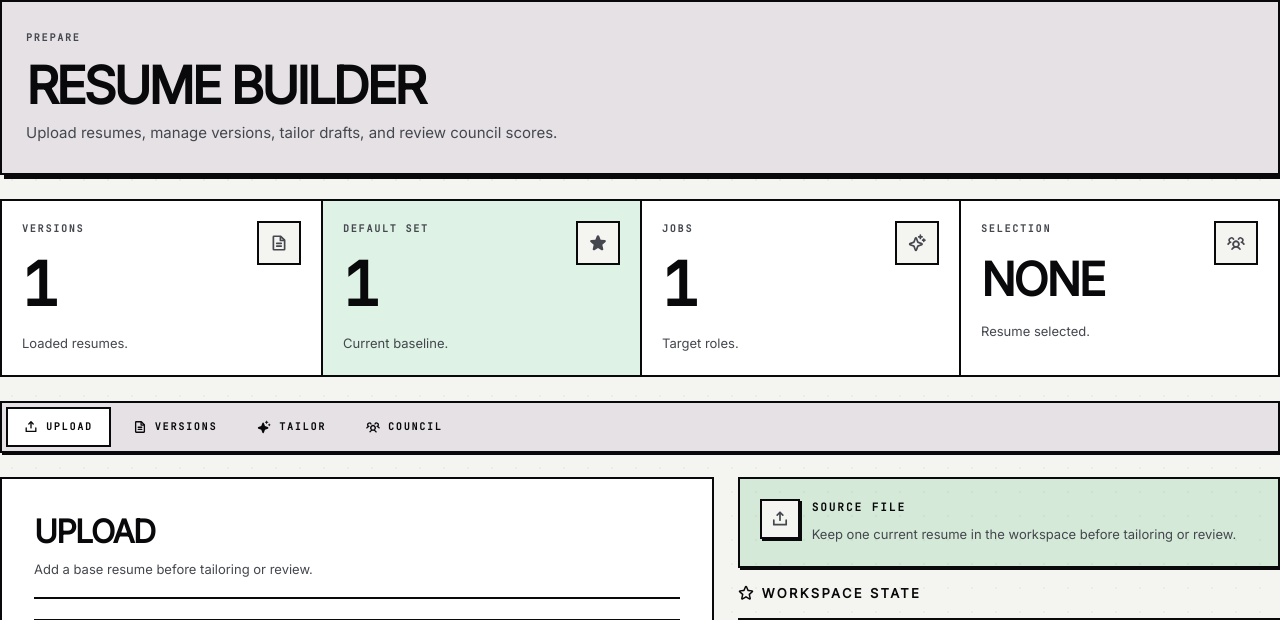
ResumeBuilder page › opens the version preview modal with parsed text
The width and height of the screenshot is (1280, 620).
Click the button "Versions" at (175, 427), box x1=115 y1=407 x2=235 y2=447
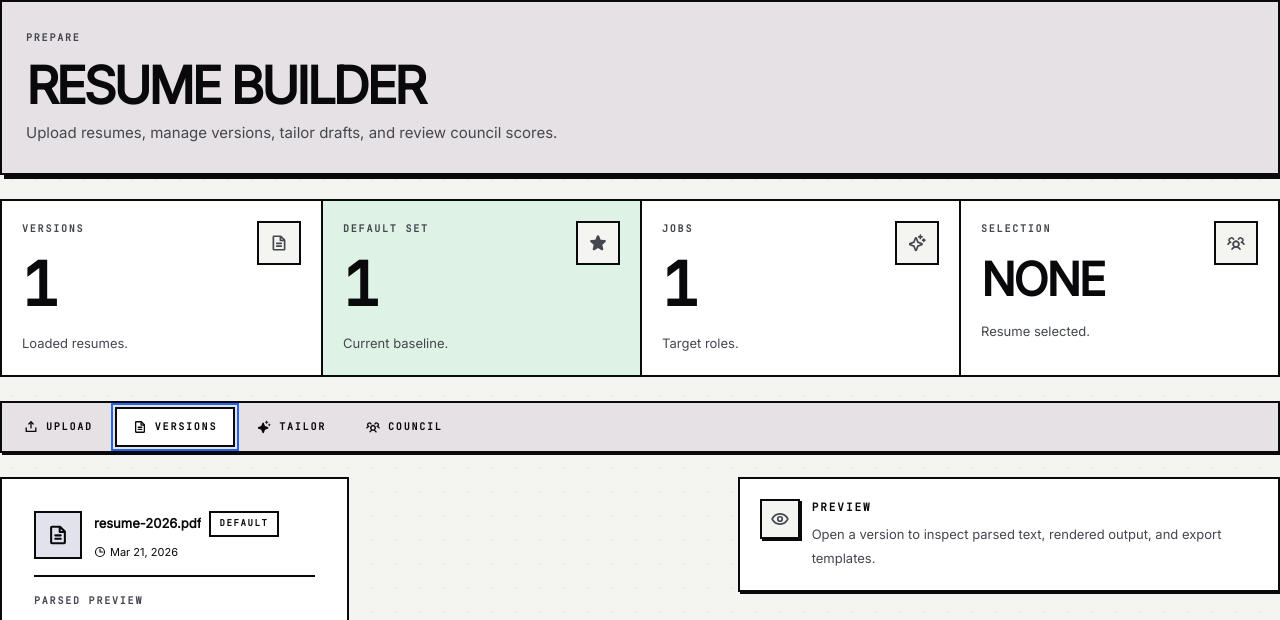
Click the text "resume-2026.pdf" at (148, 524), box x1=94 y1=514 x2=202 y2=533
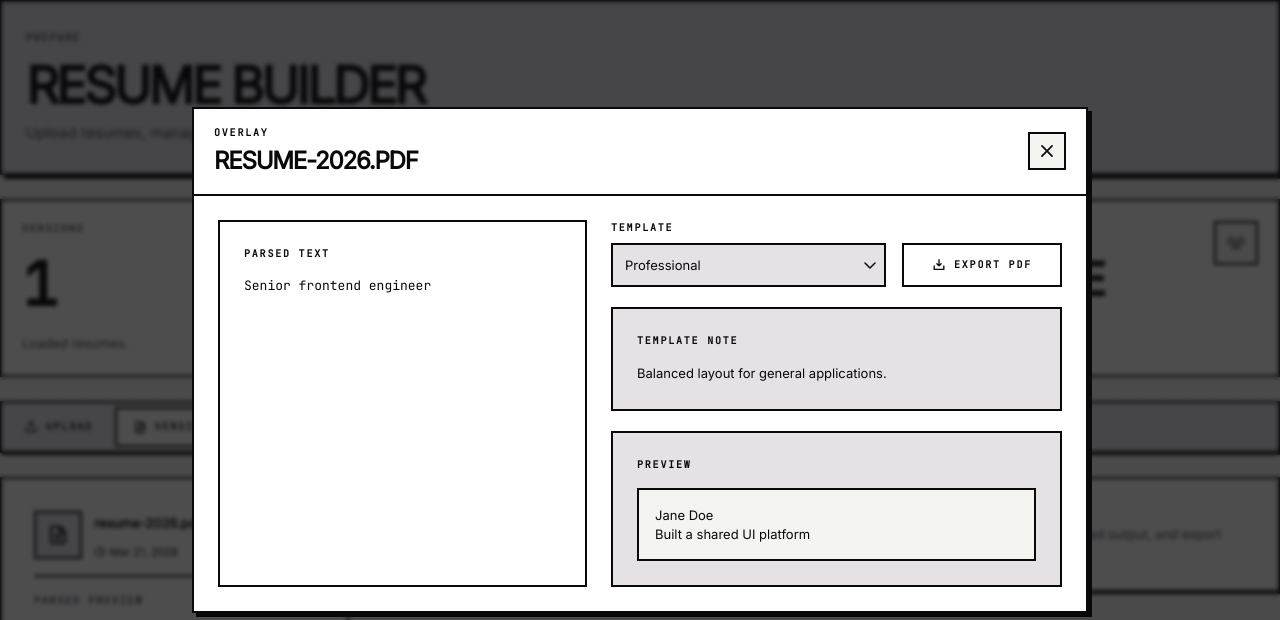
Expected: the heading "resume-2026.pdf" is shown, x1=214 y1=144 x2=418 y2=178
Expected: the text "Parsed text" is shown, x1=244 y1=247 x2=330 y2=260
Expected: the text "Balanced layout for general applications." is shown, x1=637 y1=365 x2=887 y2=381
